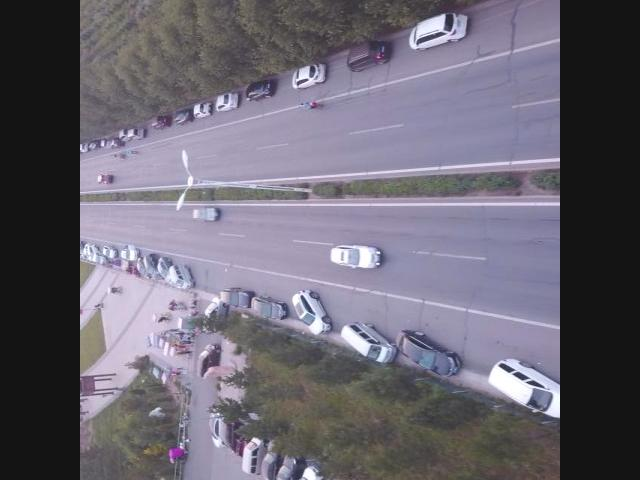out of water: (300, 101, 318, 108), (306, 100, 320, 107), (167, 326, 183, 332), (169, 369, 183, 375), (178, 349, 194, 353), (179, 339, 195, 343), (175, 331, 191, 335), (179, 344, 193, 348), (180, 335, 194, 339), (170, 366, 183, 370), (111, 289, 122, 293), (110, 286, 120, 290), (110, 153, 120, 157), (124, 149, 134, 153), (128, 149, 136, 153), (94, 302, 101, 306)
